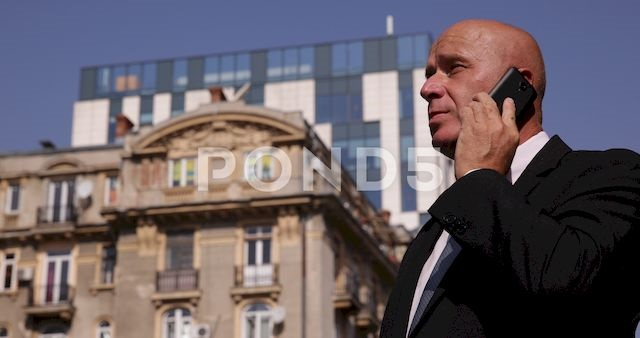phone: (483, 72, 547, 125)
talk: (419, 50, 543, 182)
